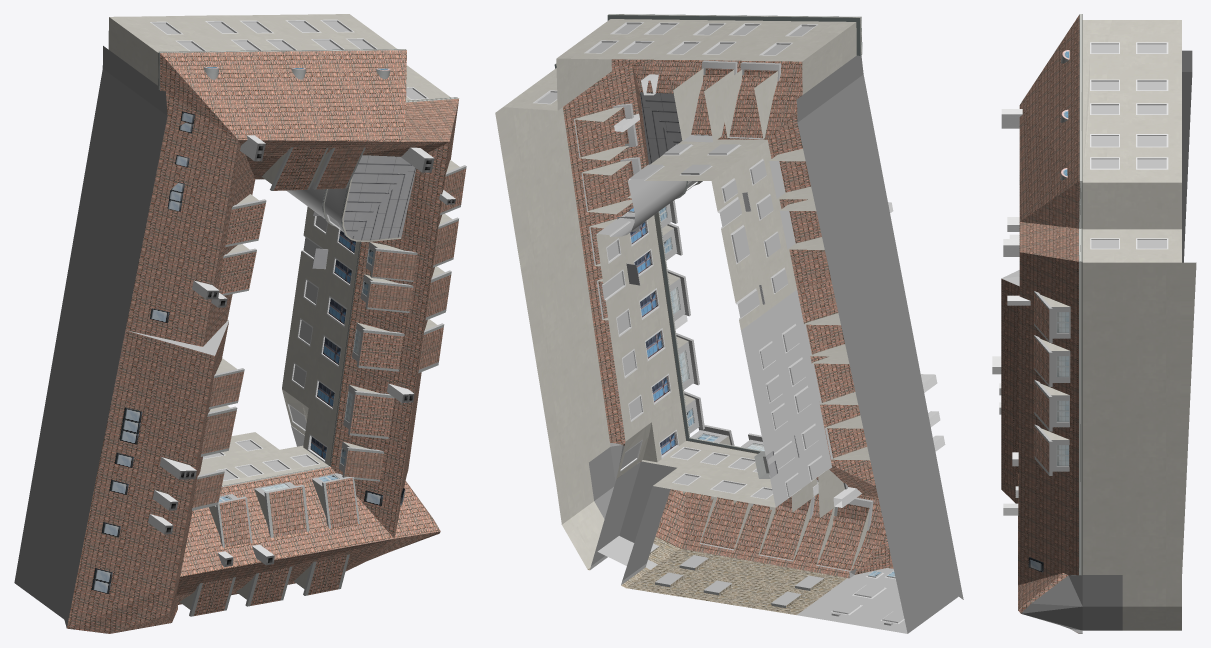
Rendered from Toom-Ryytli_12.obj.
The picture shows the model from 3 angles, left to right: view 1: azimuth 30°, elevation 25°; view 2: azimuth 150°, elevation 25°; view 3: azimuth 270°, elevation 25°; orthographic projection. The views are drawn at different scales.
Parts seen in each view (by area): view 1: Toom_Ryytli_12; view 2: Toom_Ryytli_12; view 3: Toom_Ryytli_12.
Boxes of the visible parts, bbox=[...] form: Toom_Ryytli_12: bbox=[14, 14, 466, 633]; Toom_Ryytli_12: bbox=[495, 14, 963, 633]; Toom_Ryytli_12: bbox=[992, 14, 1196, 633].
Size of the model in its own units: 33.67 by 46.04 by 16.04.
